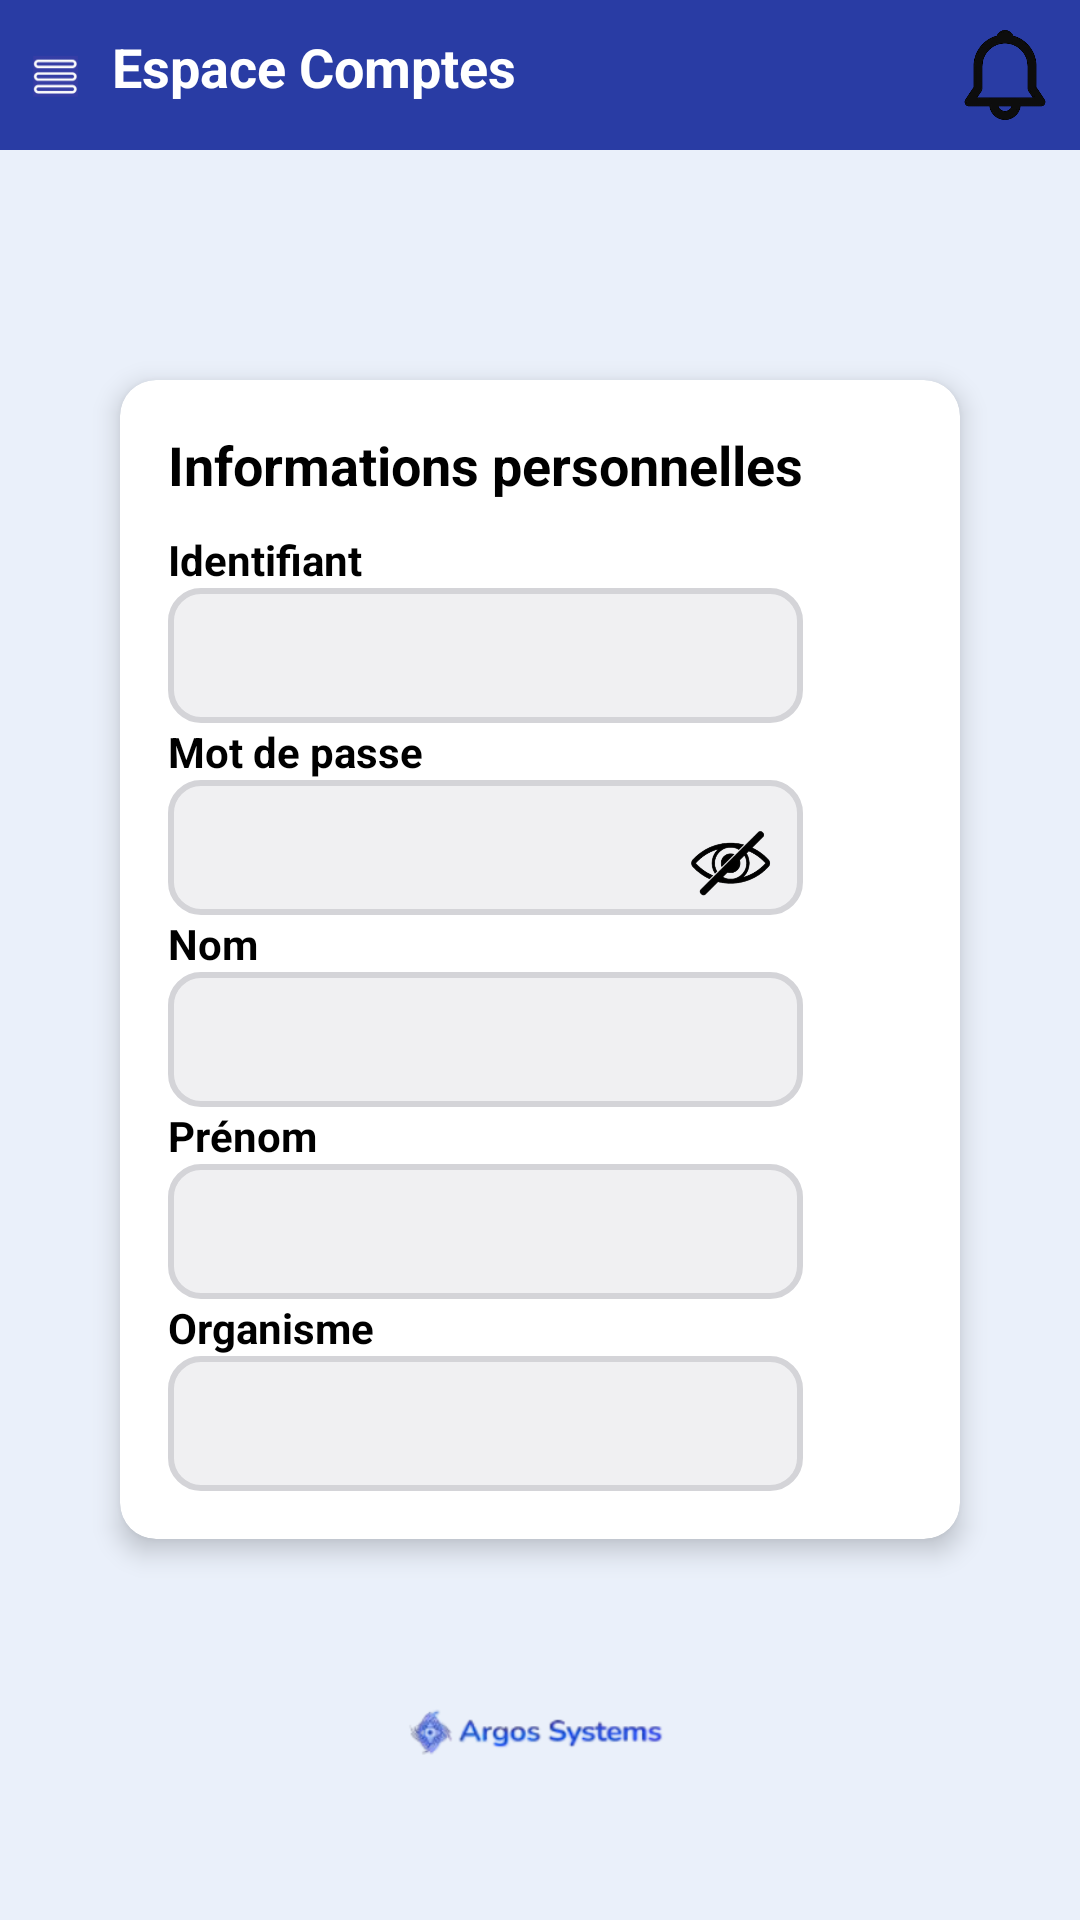

Screen size 1080 x 1920. Icon name, then its center in pixels as (x=x, y=y):
Afficher/Masquer le mot de passe: (x=730, y=863)
menu: (x=55, y=76)
notifications: (x=1005, y=75)
